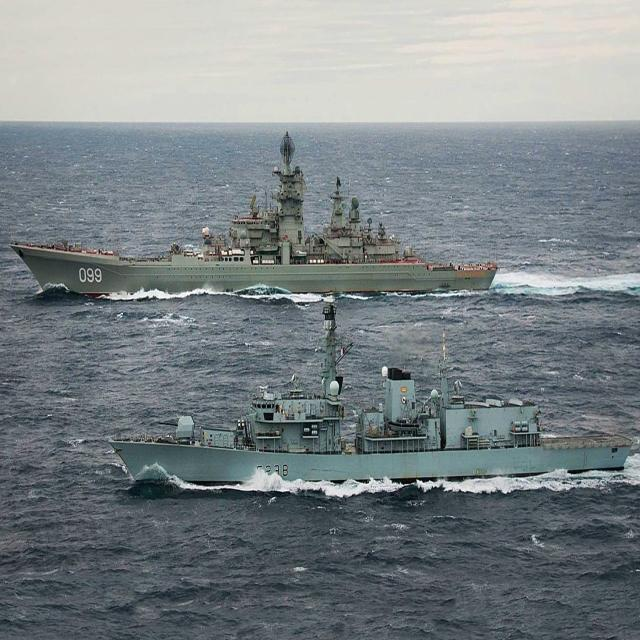navalvessels: (94, 290, 637, 519), (14, 121, 516, 302)
